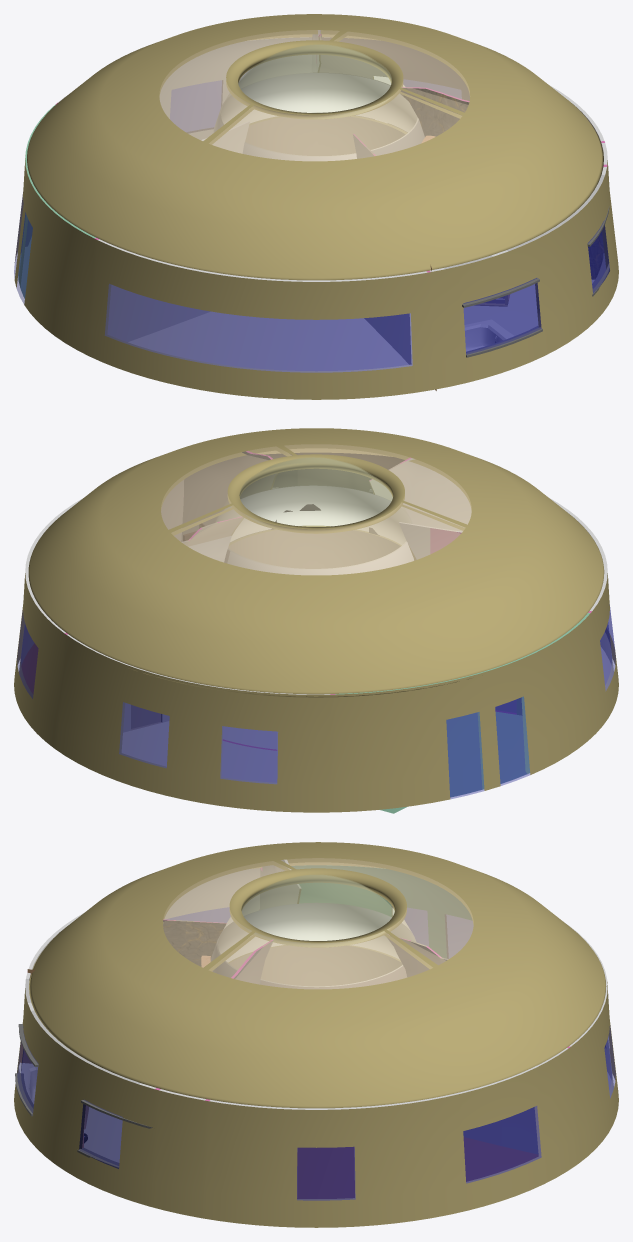
The model's file is golden.egg 2.fbx.
The picture shows the model from 3 angles, top to bottom: view 1: azimuth 30°, elevation 25°; view 2: azimuth 150°, elevation 25°; view 3: azimuth 270°, elevation 25°; orthographic projection.
Visible parts, largest first — view 1: roof, timry floor, Sphere roof window, Cube.008, down, up; view 2: roof, timry floor, Sphere roof window; view 3: roof, timry floor, Sphere roof window, down, up.
Boxes of the visible parts, x1,y1,x2,y2 form: roof: [25, 14, 603, 280]; timry floor: [14, 30, 618, 399]; Sphere roof window: [214, 44, 424, 160]; Cube.008: [464, 319, 513, 351]; down: [466, 253, 609, 357]; up: [462, 206, 609, 307]; roof: [28, 428, 604, 697]; timry floor: [14, 451, 618, 813]; Sphere roof window: [214, 457, 413, 574]; roof: [29, 842, 607, 1108]; timry floor: [14, 859, 618, 1227]; Sphere roof window: [211, 875, 415, 988]; down: [15, 1073, 119, 1168]; up: [18, 1024, 152, 1128].
Bounding box in the file's own units: 4769 × 2307 × 4769.
